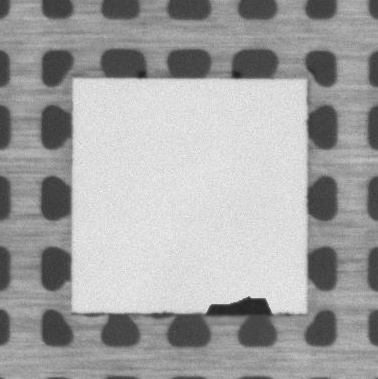DIE_BROKEN: (207, 295, 271, 318)
